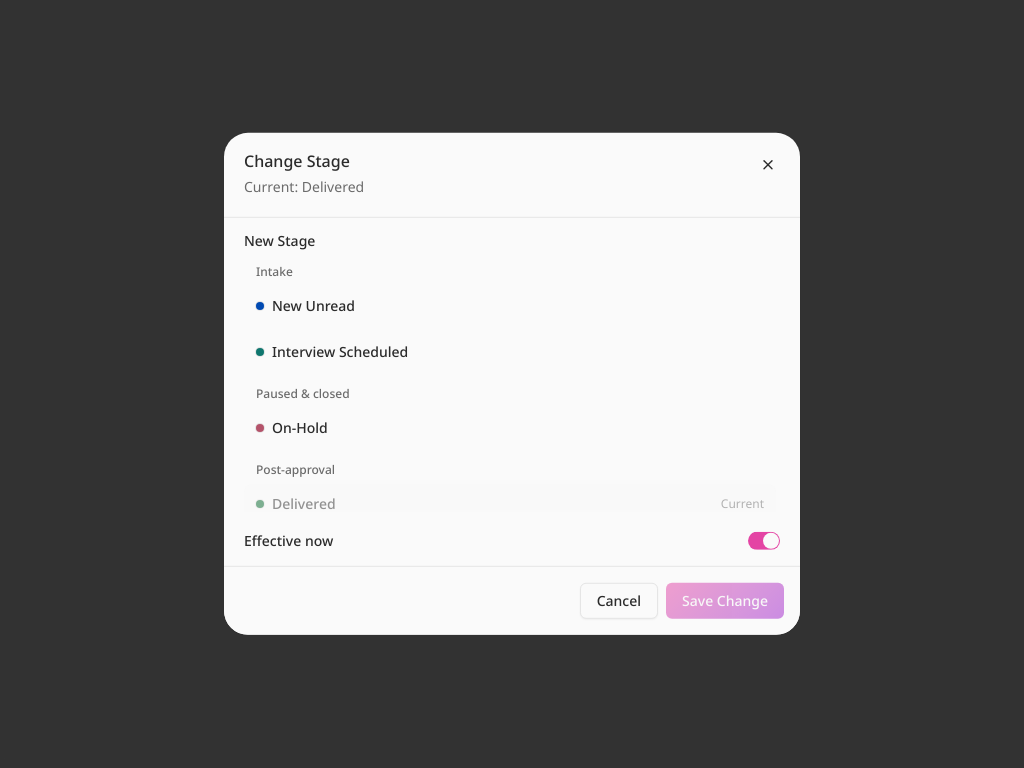
Test case: ChangeStageModal › shows approval copy for regressions without self-approval capability
The width and height of the screenshot is (1024, 768).
Click the button "New Unread" at [314, 305], box [244,286,776,326]
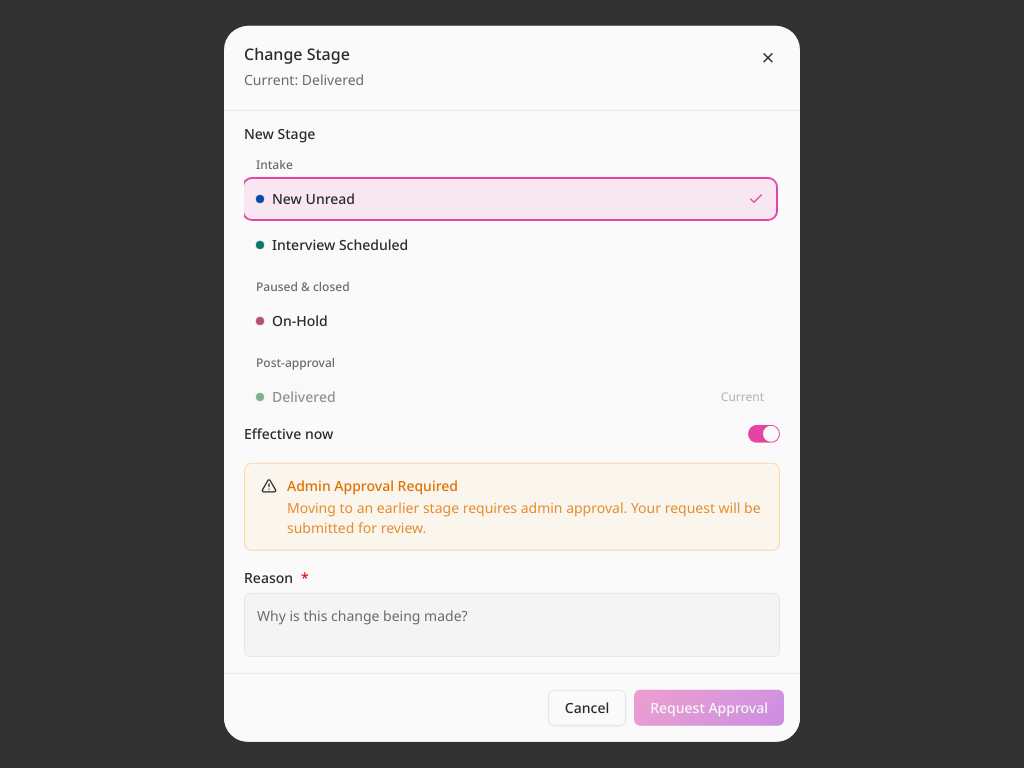
Now the text "Admin Approval Required" is shown, box [287,476,458,495]
Now the button "Request Approval" is shown, box [634,690,784,726]
